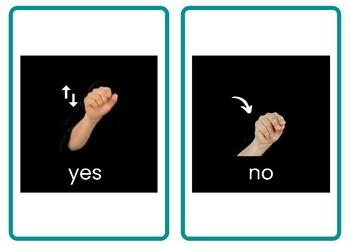No: (236, 110, 288, 162)
